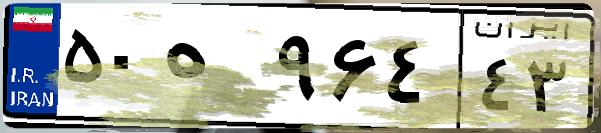0: (110, 28, 158, 98)
3: (525, 38, 570, 115)
4: (385, 28, 445, 110), (475, 38, 525, 113)
5: (57, 26, 110, 100)
6: (330, 28, 385, 110)
9: (270, 28, 330, 110)
ه: (158, 20, 270, 120)
